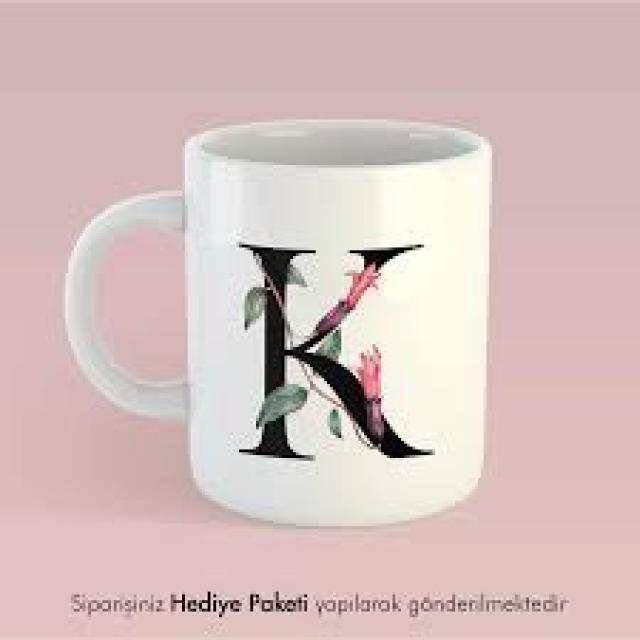taza: (65, 115, 495, 529)
